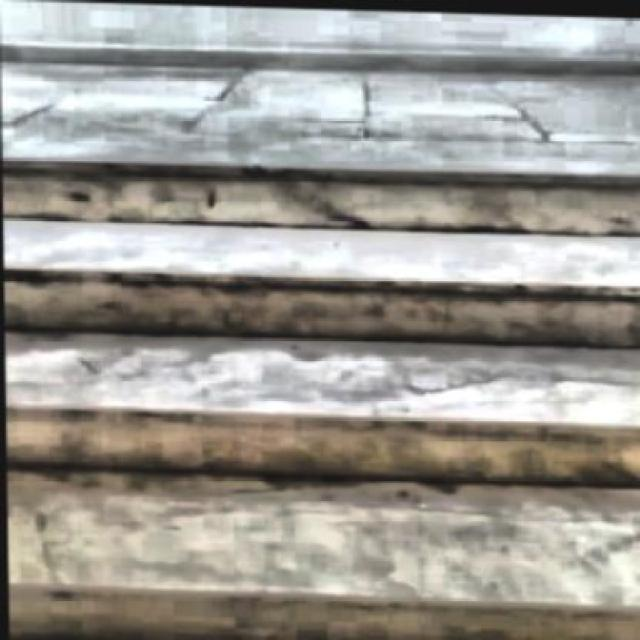stair: (1, 146, 638, 639)
